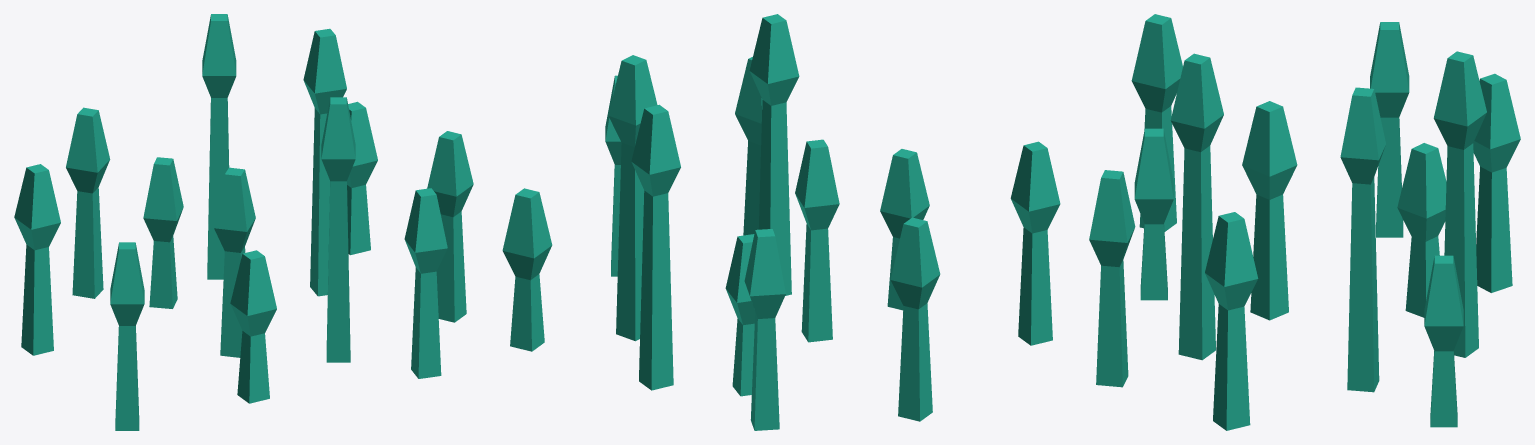
The model's file is wheat.glb.
The picture shows the model from 3 angles, left to right: view 1: azimuth 30°, elevation 25°; view 2: azimuth 150°, elevation 25°; view 3: azimuth 270°, elevation 25°; orthographic projection. The views are drawn at different scales.
Visible parts, largest first — view 1: crops_wheatStageA; view 2: crops_wheatStageA; view 3: crops_wheatStageA.
Part boxes in pixels (x1,y1,x2,y2): crops_wheatStageA: (14, 14, 473, 430); crops_wheatStageA: (502, 14, 1060, 430); crops_wheatStageA: (1089, 14, 1520, 430).
Size of the model in its own units: 0.5396 by 0.3349 by 0.4467.
